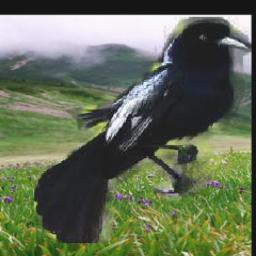Crow: (34, 18, 252, 244)
